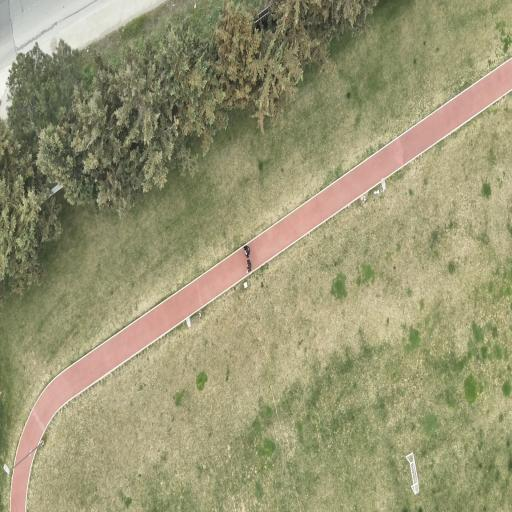person: (243, 245, 250, 258), (247, 259, 251, 273)
